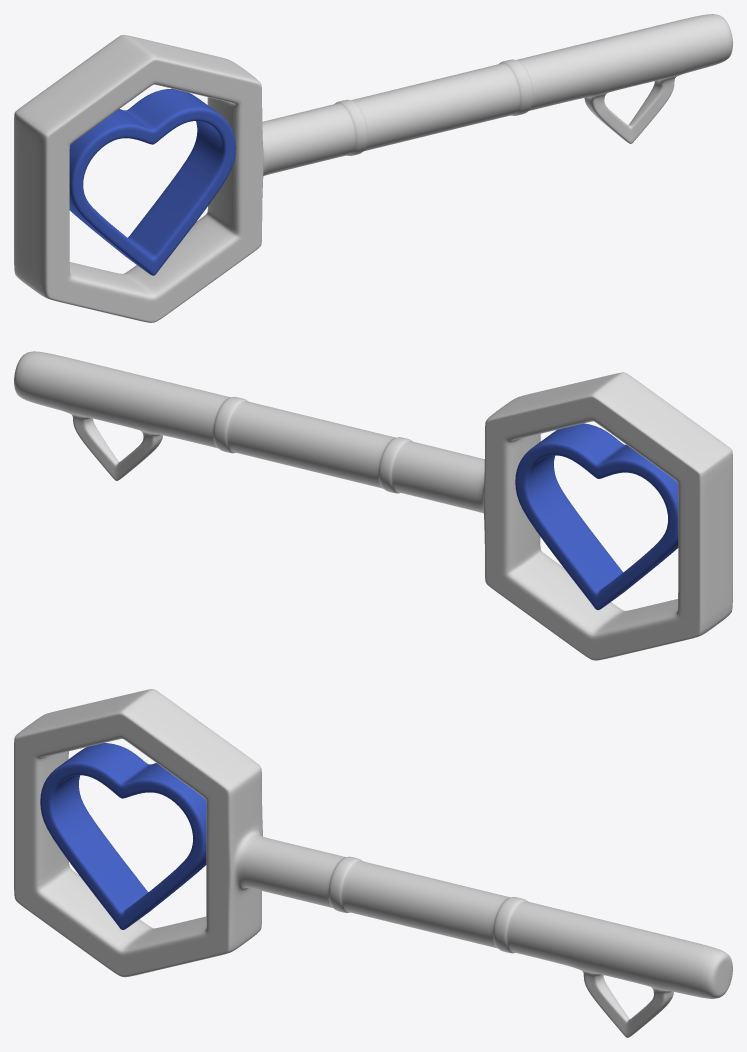
The picture shows the model from 3 angles, top to bottom: view 1: azimuth 30°, elevation 25°; view 2: azimuth 150°, elevation 25°; view 3: azimuth 330°, elevation 25°; orthographic projection.
Parts seen in each view (by area): view 1: key low.001; view 2: key low.001; view 3: key low.001.
Boxes of the visible parts, x1,y1,x2,y2 form: key low.001: [14, 14, 732, 322]; key low.001: [14, 351, 732, 660]; key low.001: [14, 689, 732, 1037].
Size of the model in its own units: 100 by 36.75 by 8.2.
